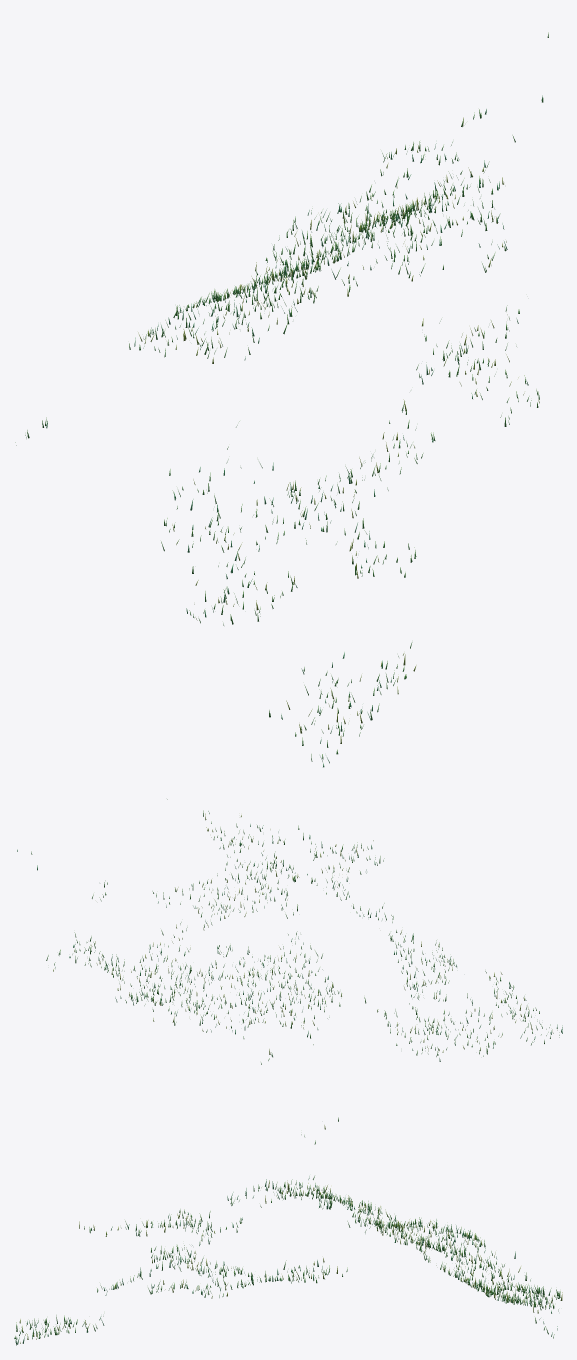
3 views of the same model, one above another, from view 1: azimuth 30°, elevation 25°; view 2: azimuth 150°, elevation 25°; view 3: azimuth 270°, elevation 25° (orthographic). The views are drawn at different scales.
Parts seen in each view (by area): view 1: gc_59; view 2: gc_59; view 3: gc_59.
Part boxes in pixels (x1,y1,x2,y2): gc_59: (15,32,548,767); gc_59: (17,799,562,1144); gc_59: (14,1176,562,1345).
Size of the model in its own units: 16.56 by 11.94 by 18.04.
Materials: 1 (1 with a texture image).
